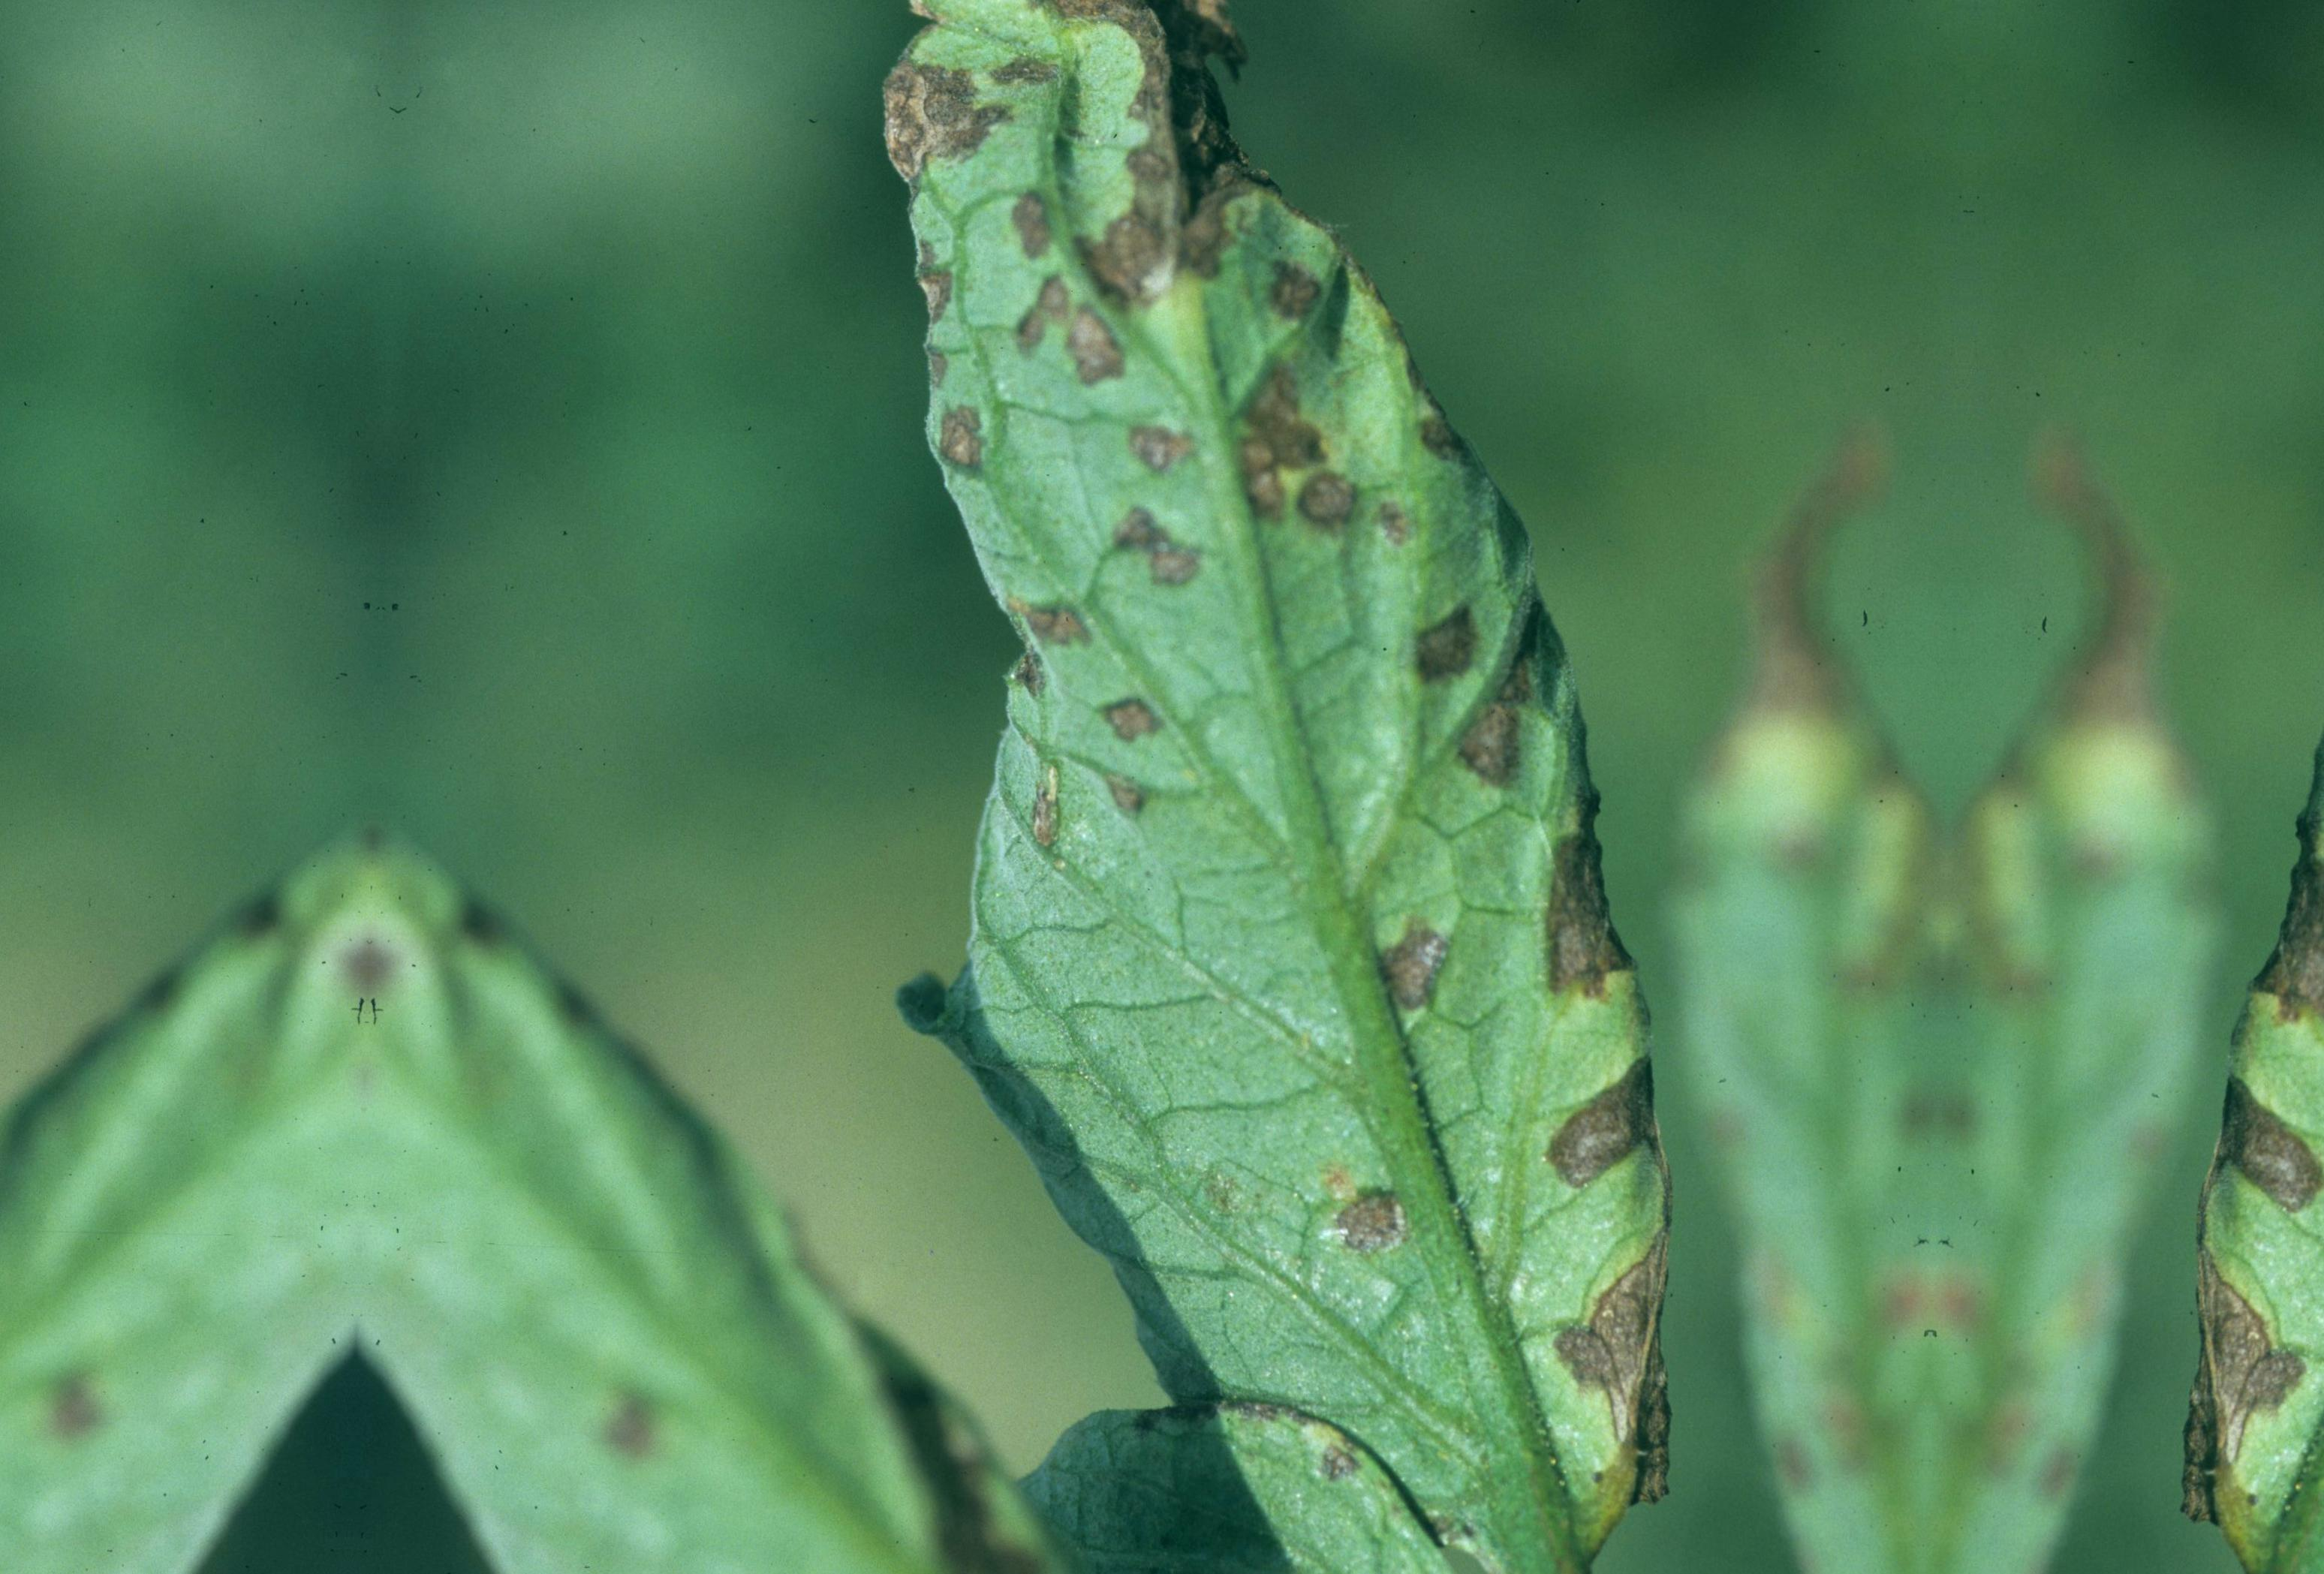Tomato leaf bacterial spot: (794, 0, 1810, 1574)
